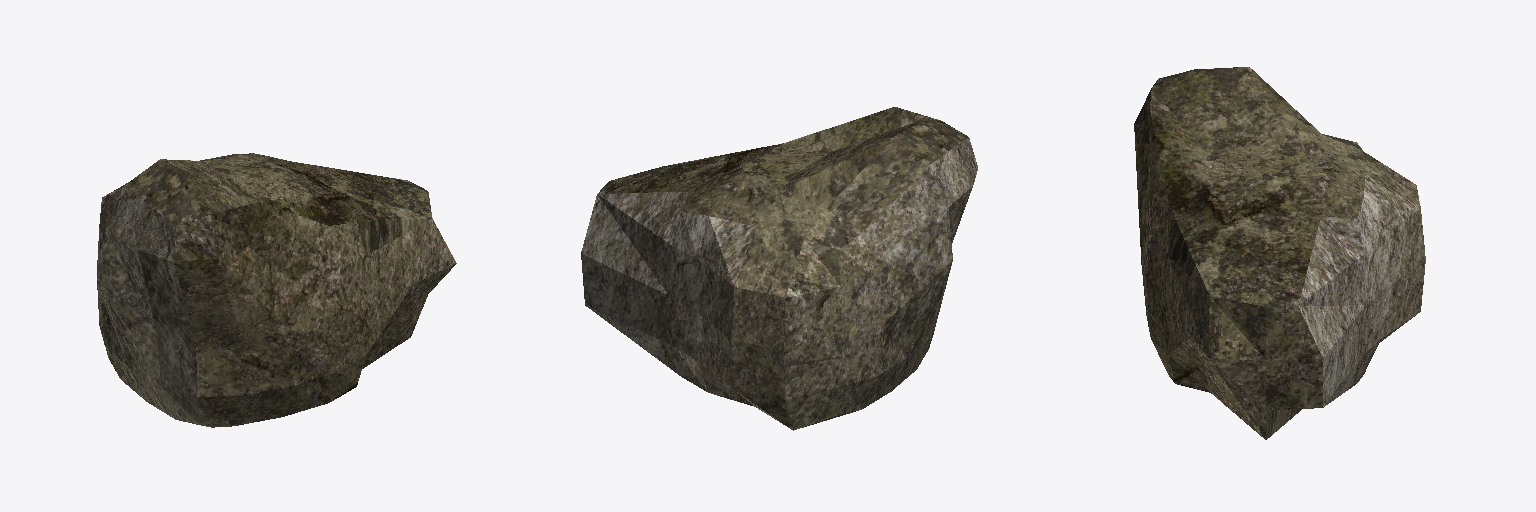
3 views of the same model, side by side, from view 1: azimuth 30°, elevation 25°; view 2: azimuth 150°, elevation 25°; view 3: azimuth 270°, elevation 25° (orthographic).
Visible parts, largest first — view 1: asteroid2_Cube; view 2: asteroid2_Cube; view 3: asteroid2_Cube.
Part boxes in pixels (x1,y1,x2,y2): asteroid2_Cube: (97, 153, 456, 427); asteroid2_Cube: (581, 107, 977, 430); asteroid2_Cube: (1134, 67, 1425, 439).
Size of the model in its own units: 3.01 by 2.29 by 2.24.
Materials: 1 (1 with a texture image).